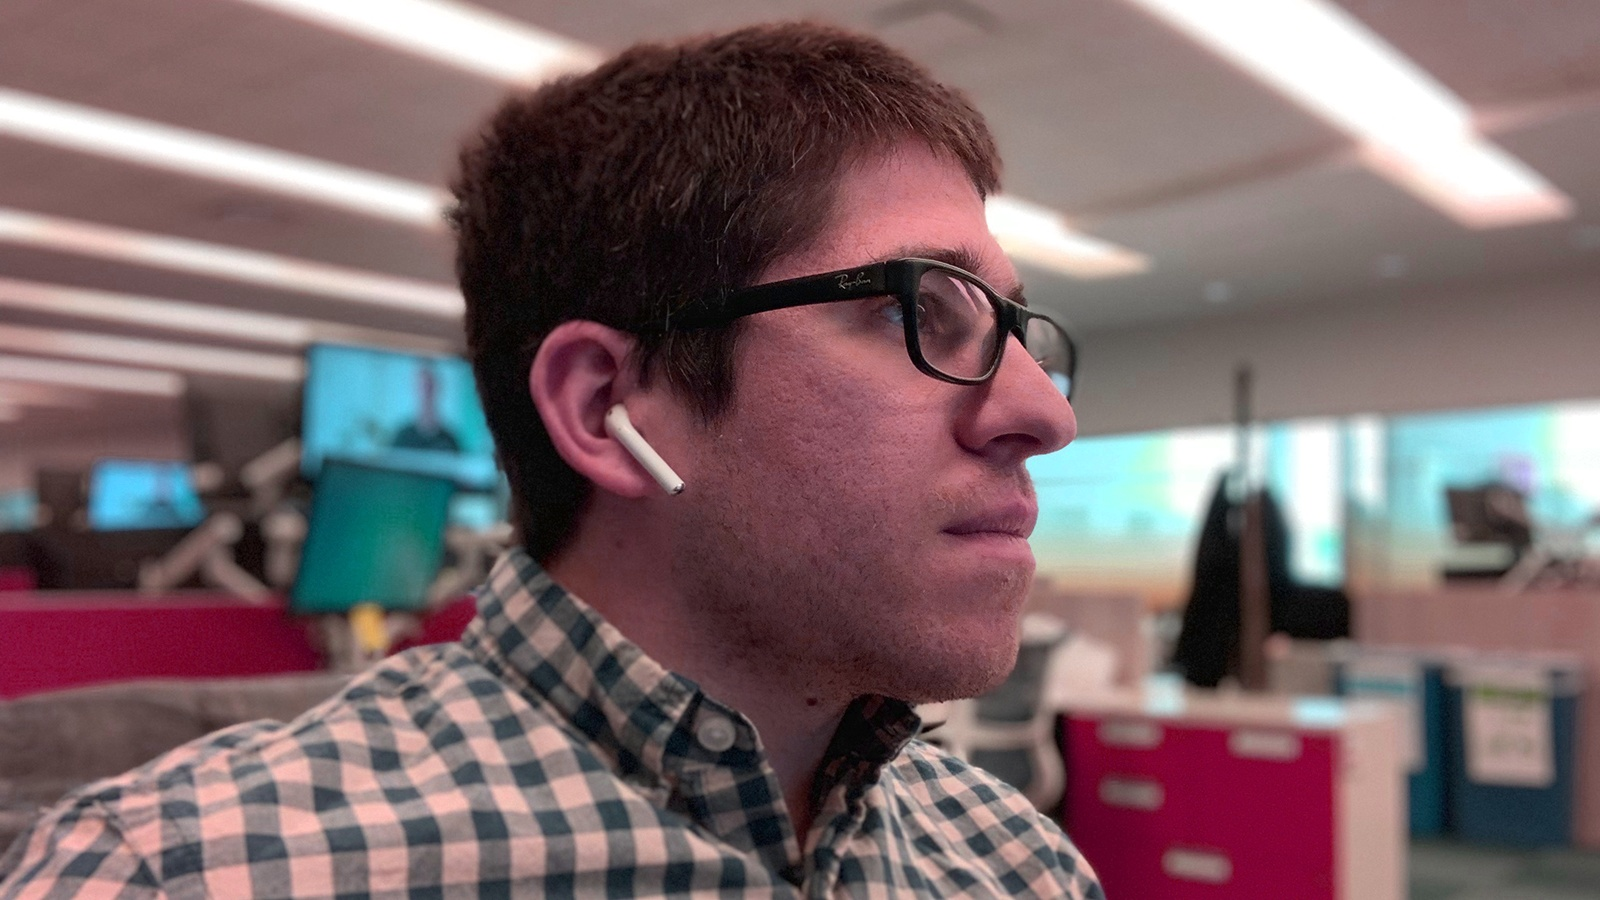earphone: (529, 320, 684, 501)
